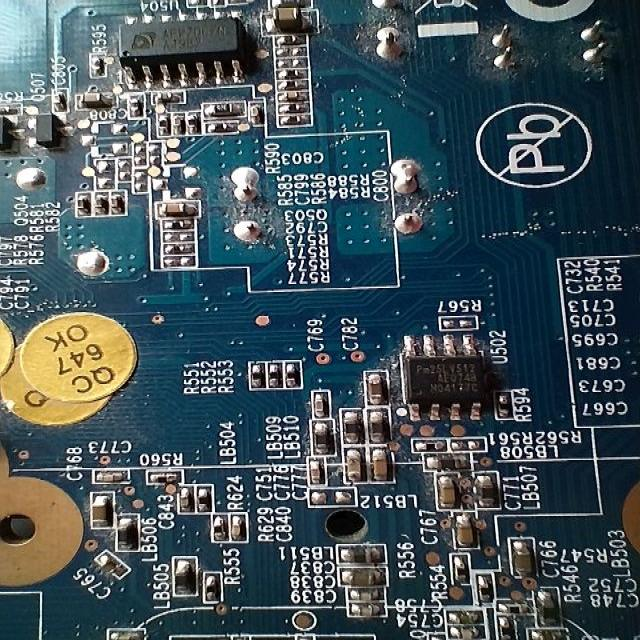capacitor: (90, 539, 148, 596), (94, 463, 135, 489)
resistor: (229, 500, 261, 554), (282, 356, 305, 393), (248, 356, 267, 395), (76, 190, 92, 218)
